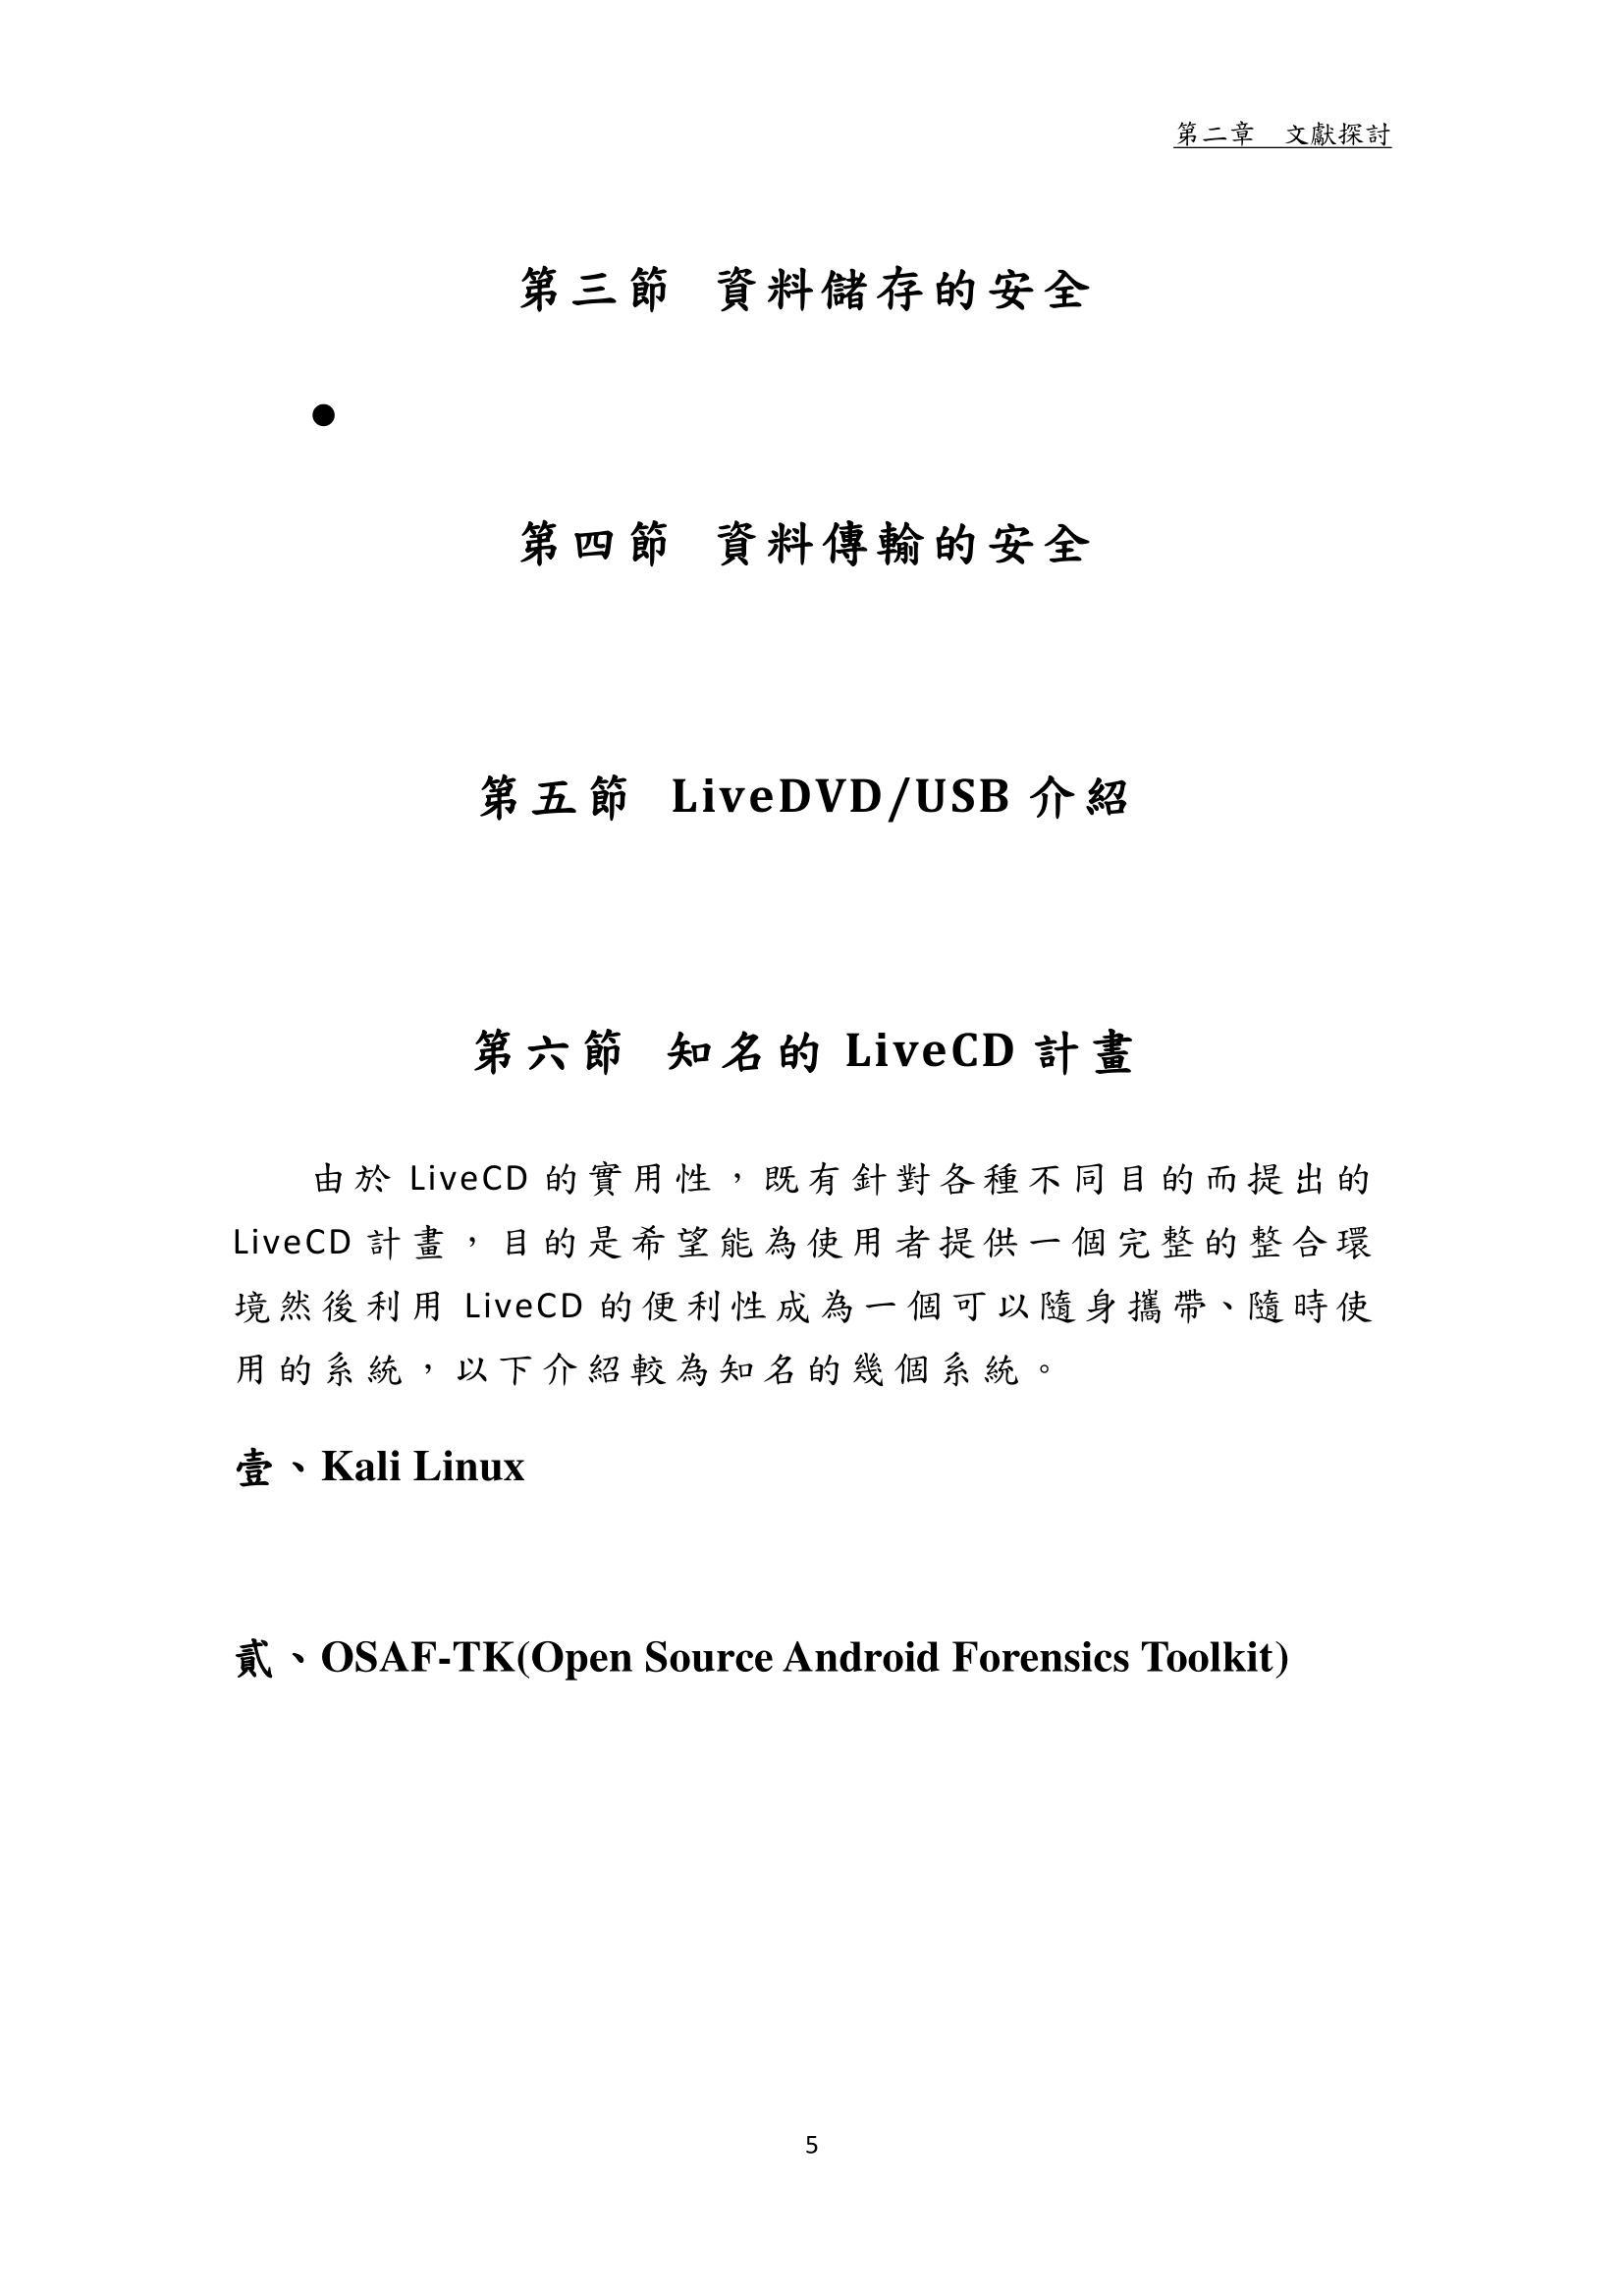text: (195, 1138, 1387, 1405), (207, 1613, 1304, 1706), (450, 1012, 1162, 1098), (487, 244, 1104, 341), (462, 757, 1141, 845), (506, 508, 1093, 594), (216, 1432, 538, 1502)
